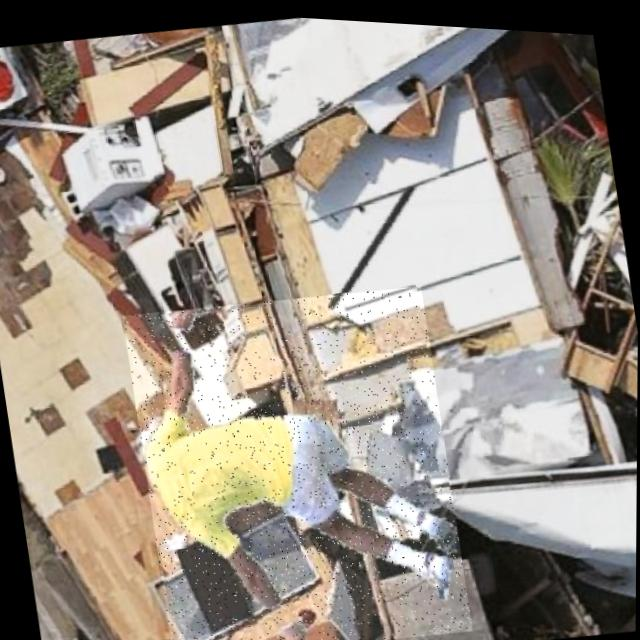Person in Rubble: (121, 266, 475, 640)
